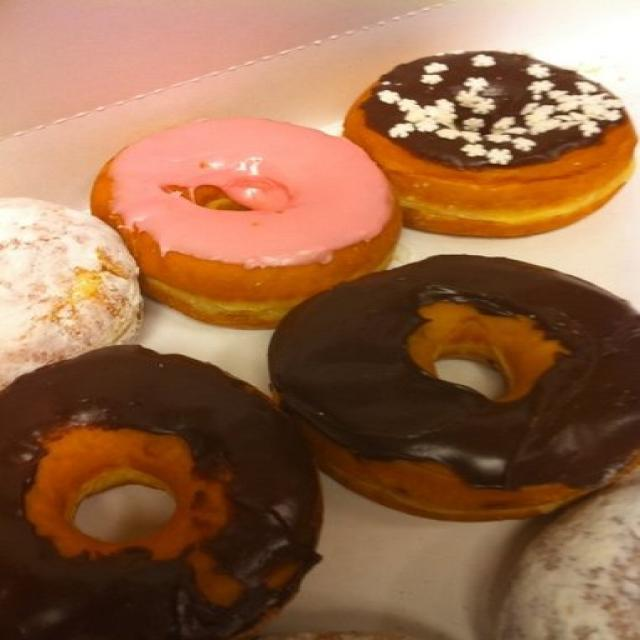Donuts: (11, 45, 640, 640)
